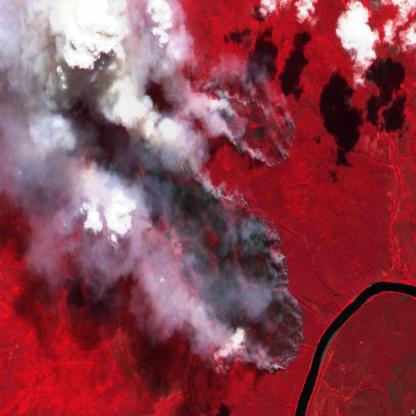fire: (105, 77, 306, 378)
